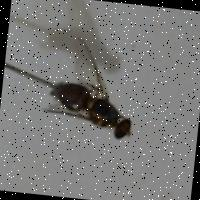Oriental-fruit-fly: (32, 26, 152, 142)
